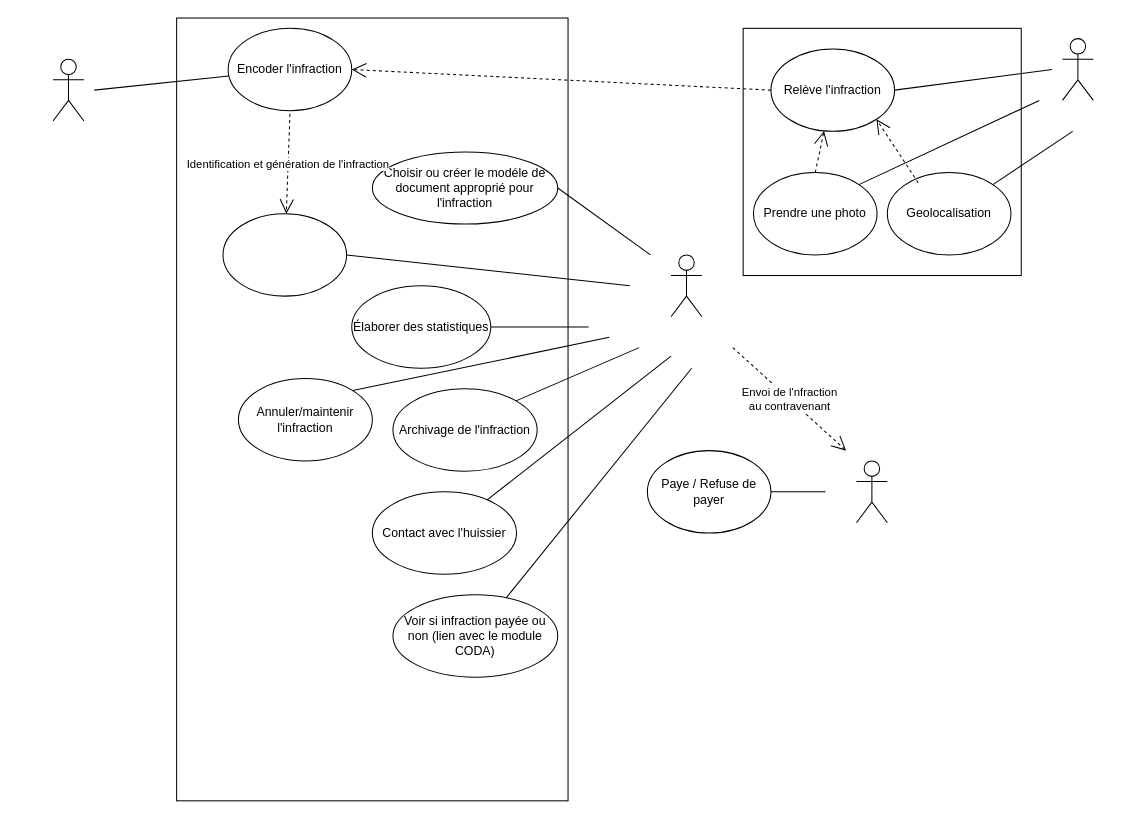
The diagram is 1131 pixels wide and 819 high, and some of its shapes have lost their labels. The shapes that lost their labels are listed below. From the top down, each one's centre as x and y in pixels, then its label:
the point at 68,89: Agent traitant SAC
the point at 1077,69: Constatateur
the point at 284,254: Valider l'infraction
the point at 686,285: Fonctionaire sanctionateur
the point at 871,491: Contravenant
